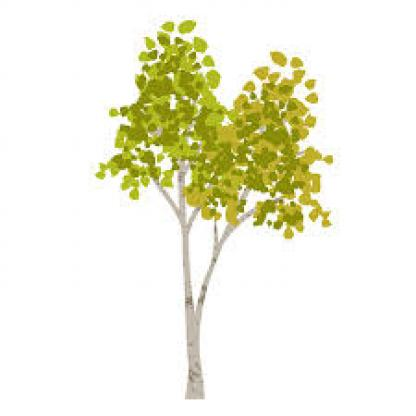branch_cut: (141, 145, 263, 316)
crown_dizzy: (88, 17, 336, 242)
trunk_bark: (180, 321, 208, 381)
